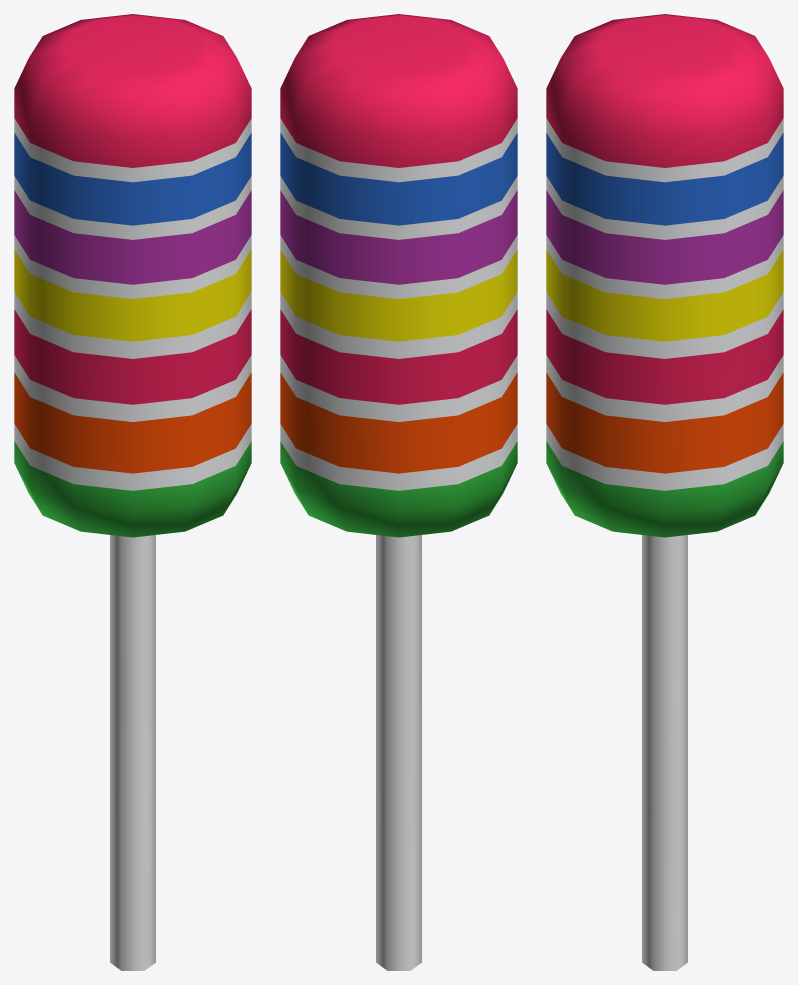
Rendered from lollipop_024.glb.
3 renders of one model, left to right at view 1: azimuth 30°, elevation 25°; view 2: azimuth 150°, elevation 25°; view 3: azimuth 270°, elevation 25°, orthographic.
Parts seen in each view (by area): view 1: lollipop_024; view 2: lollipop_024; view 3: lollipop_024.
Part boxes in pixels (x1,y1,x2,y2): lollipop_024: (14, 14, 251, 970); lollipop_024: (280, 14, 517, 970); lollipop_024: (546, 14, 783, 970).
Bounding box in the file's own units: 1.17 × 5 × 1.17.
1 material, 1 textured.
